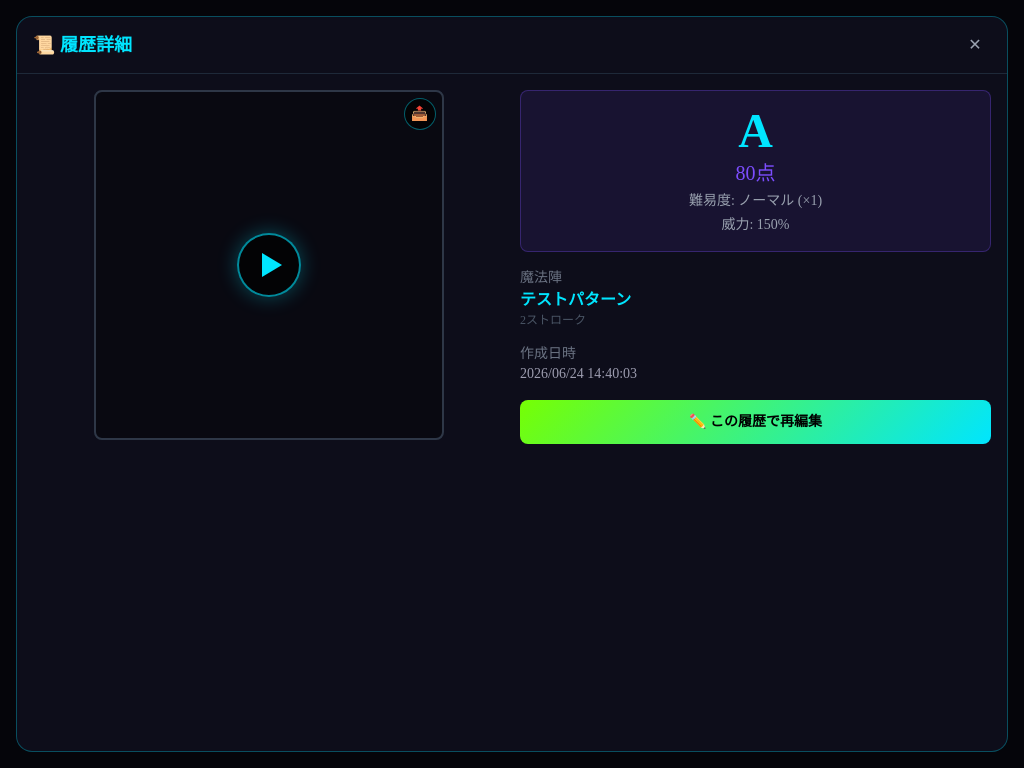
Test: HistoryDetail — 再生ボタン動作 › ▶️ 再生ボタンを押すと ⏹️ 停止 に変わる
Step 1. Click the button named "▶️ 再生" → (268, 265), box [94,90,444,440]
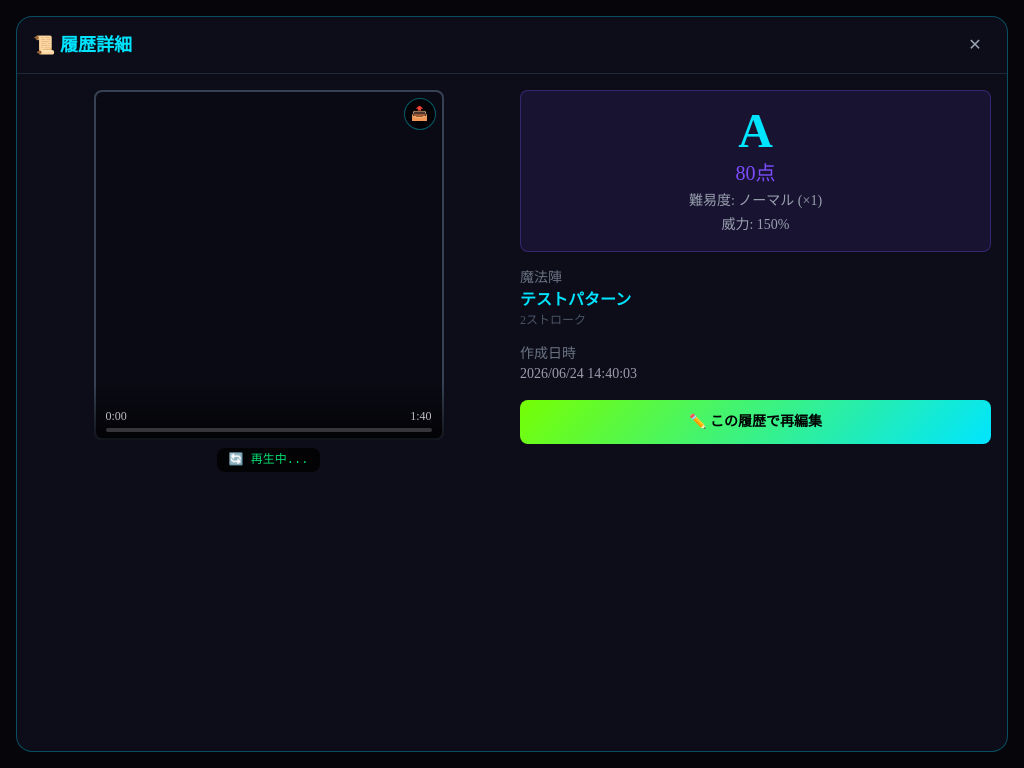
Expected: the button named "⏹️ 停止" is shown, [94,90,444,440]
